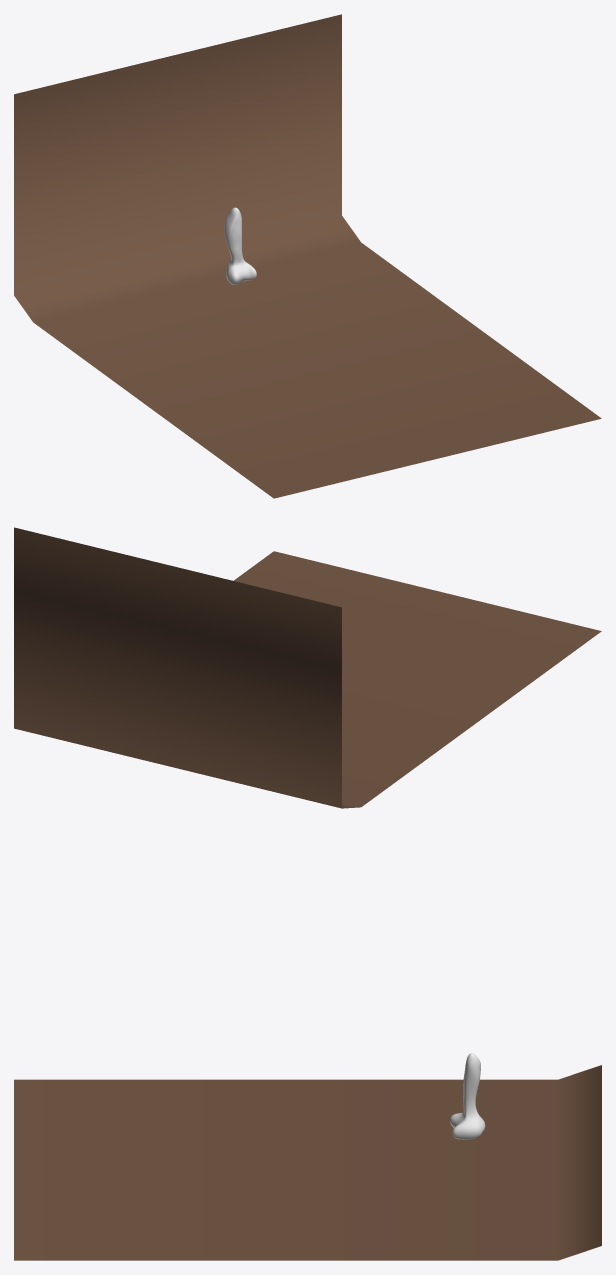
The picture shows the model from 3 angles, top to bottom: view 1: azimuth 30°, elevation 25°; view 2: azimuth 150°, elevation 25°; view 3: azimuth 270°, elevation 25°; orthographic projection. The views are drawn at different scales.
Parts seen in each view (by area): view 1: Plane, Cube; view 2: Plane; view 3: Plane, Cube.
Boxes of the visible parts, x1=… form: Plane: x1=14, y1=14, x2=601, y2=498; Cube: x1=224, y1=207, x2=256, y2=284; Plane: x1=14, y1=527, x2=601, y2=808; Plane: x1=14, y1=1065, x2=601, y2=1260; Cube: x1=450, y1=1053, x2=485, y2=1139.
Size of the model in its own units: 10.21 by 6.37 by 14.02.
